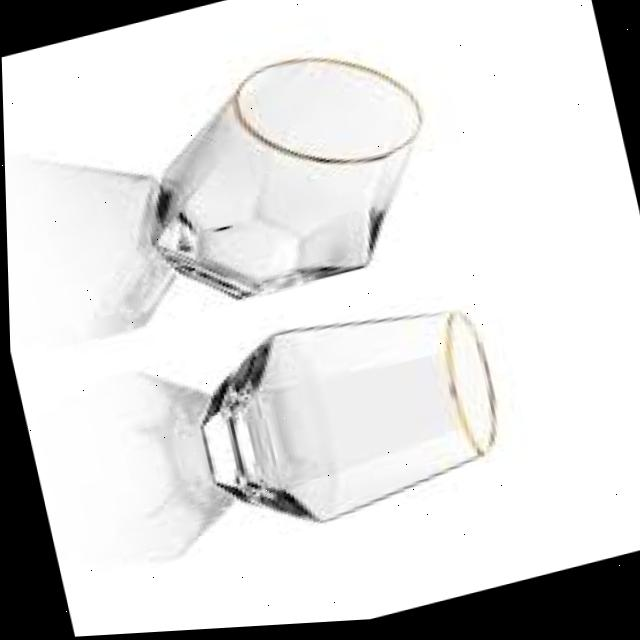Dry: (109, 29, 455, 324), (179, 283, 514, 553)
